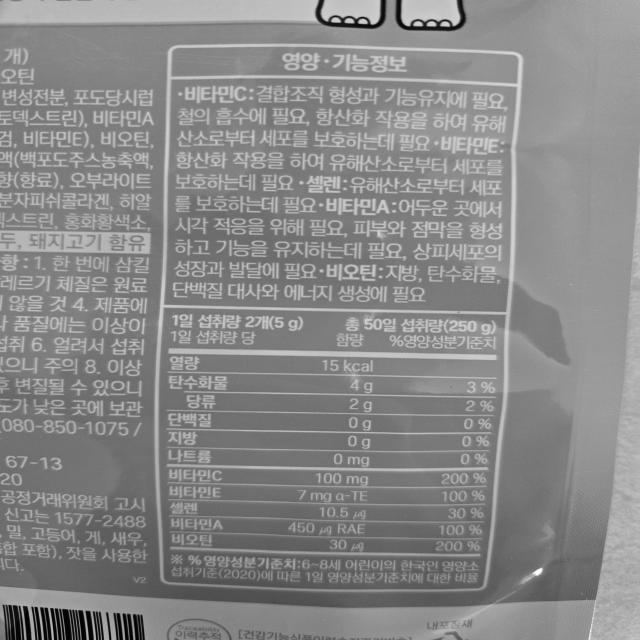Nutrition Label: (164, 304, 501, 593)
